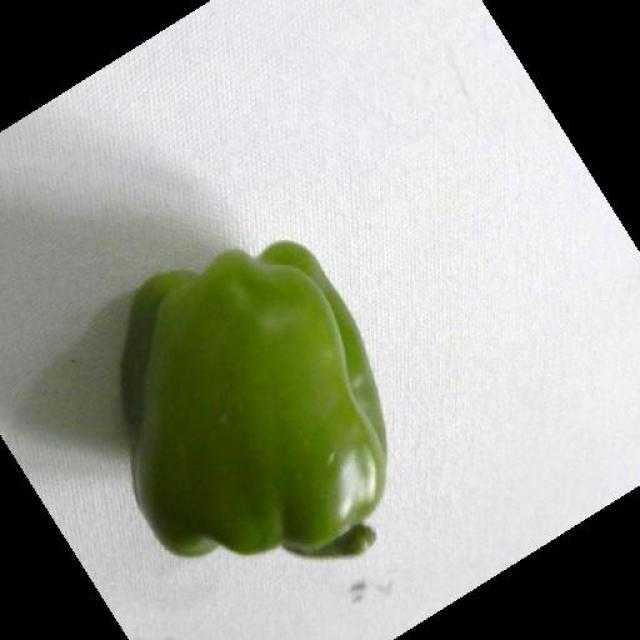Fresh_Capsicum: (116, 260, 420, 582)
